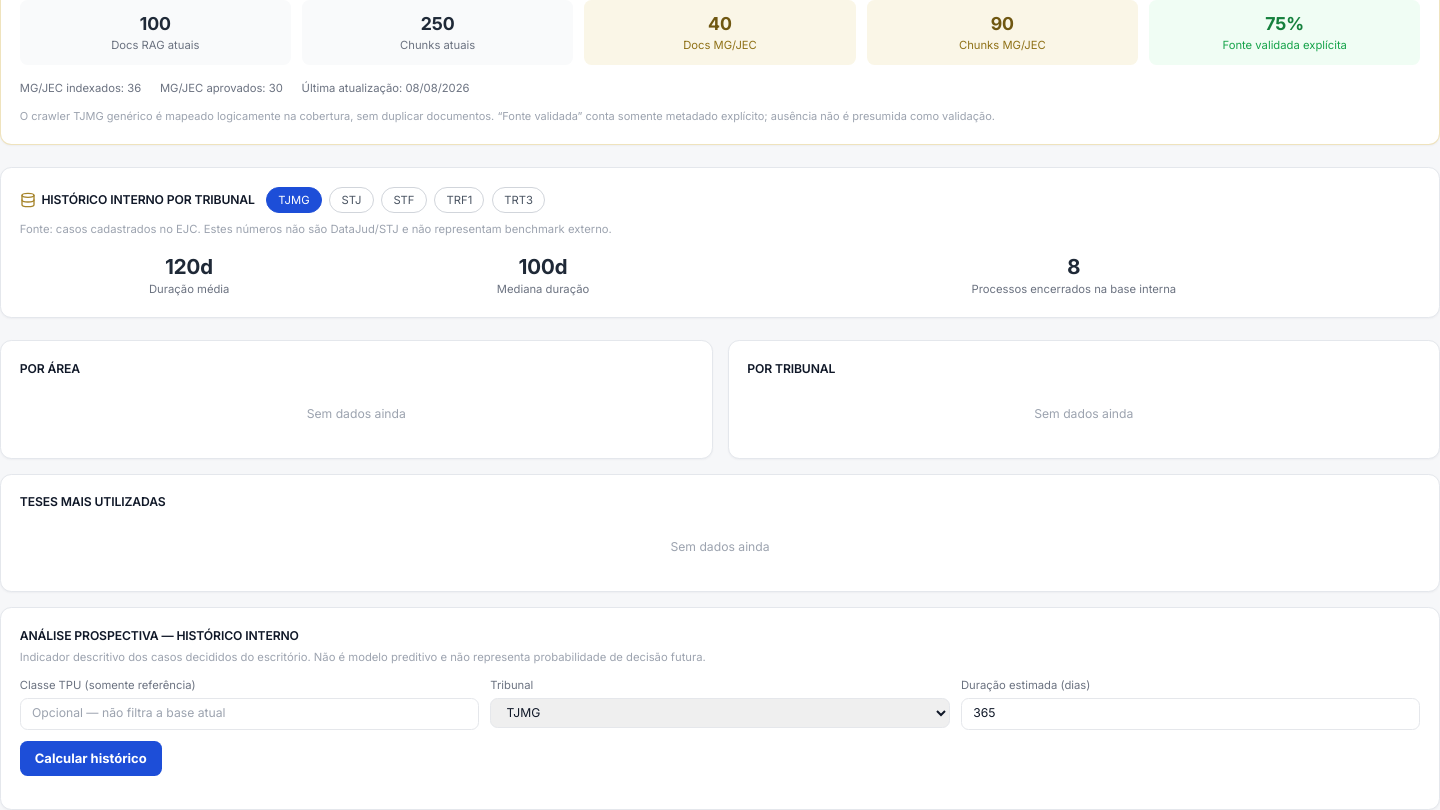
Test: Jurimetria — verdade da fonte › aciona a análise prospectiva canônica e mostra a taxa histórica
(page scrolled)
Click the button "Calcular histórico".
click(91, 758)  # box [20,741,162,776]
(page scrolled)
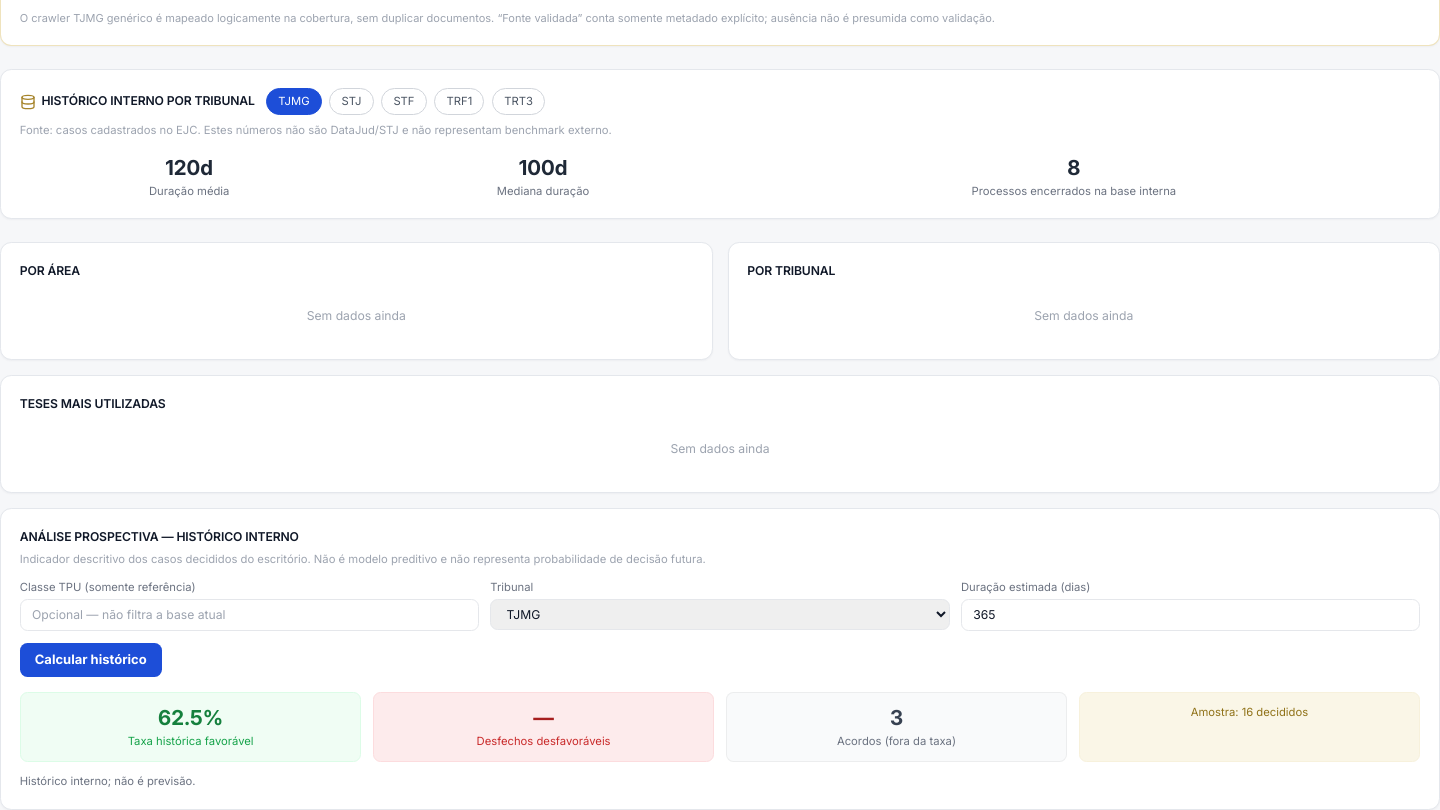
Expected: the text "62.5%" is shown, [158,705,223,730]
Expected: the text "Taxa histórica favorável" is shown, [128,734,254,748]
